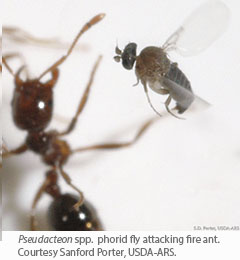phorid fly: (108, 1, 239, 133)
